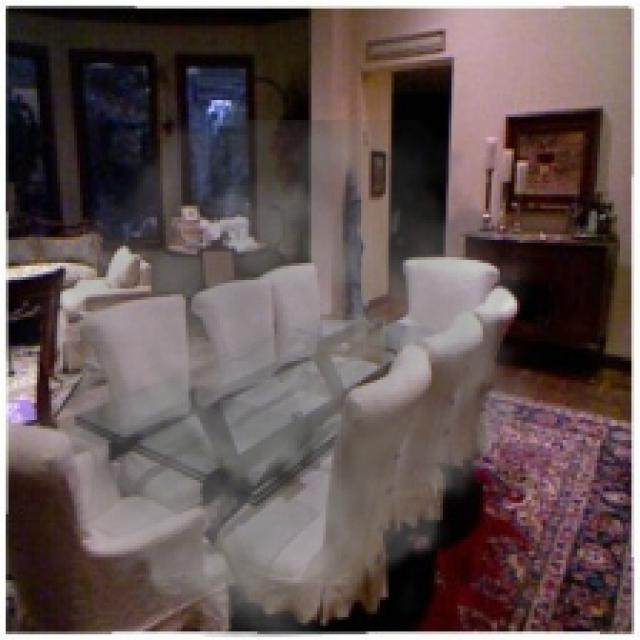smoke: (9, 120, 554, 637)
